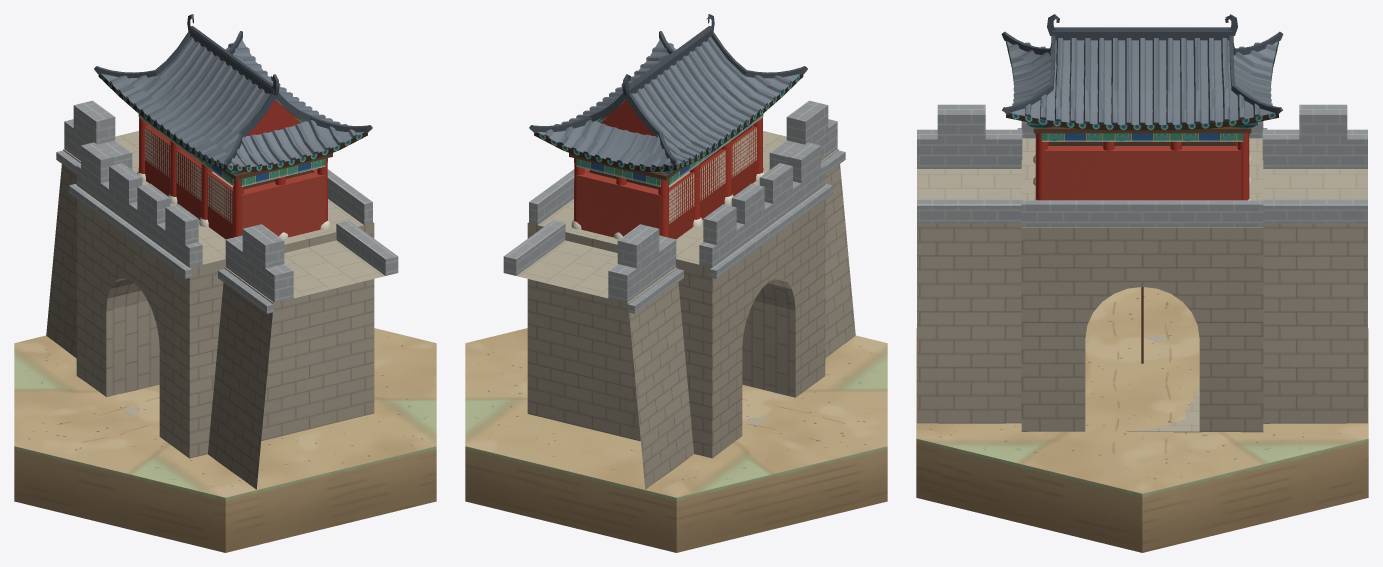
The model's file is Hex_Gate.glb.
3 views of the same model, side by side, from view 1: azimuth 30°, elevation 25°; view 2: azimuth 150°, elevation 25°; view 3: azimuth 270°, elevation 25° (orthographic). The views are drawn at different scales.
Parts seen in each view (by area): view 1: Hex_Gate; view 2: Hex_Gate; view 3: Hex_Gate.
Boxes of the visible parts, x1,y1,x2,y2 form: Hex_Gate: (14,14,436,552); Hex_Gate: (465,14,887,552); Hex_Gate: (916,14,1368,552).
Bounding box in the file's own units: 8 × 7.31 × 6.93.
Materials: 2 (2 with a texture image).
